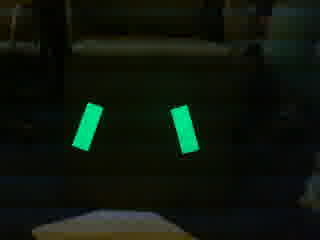target: (71, 101, 200, 156)
